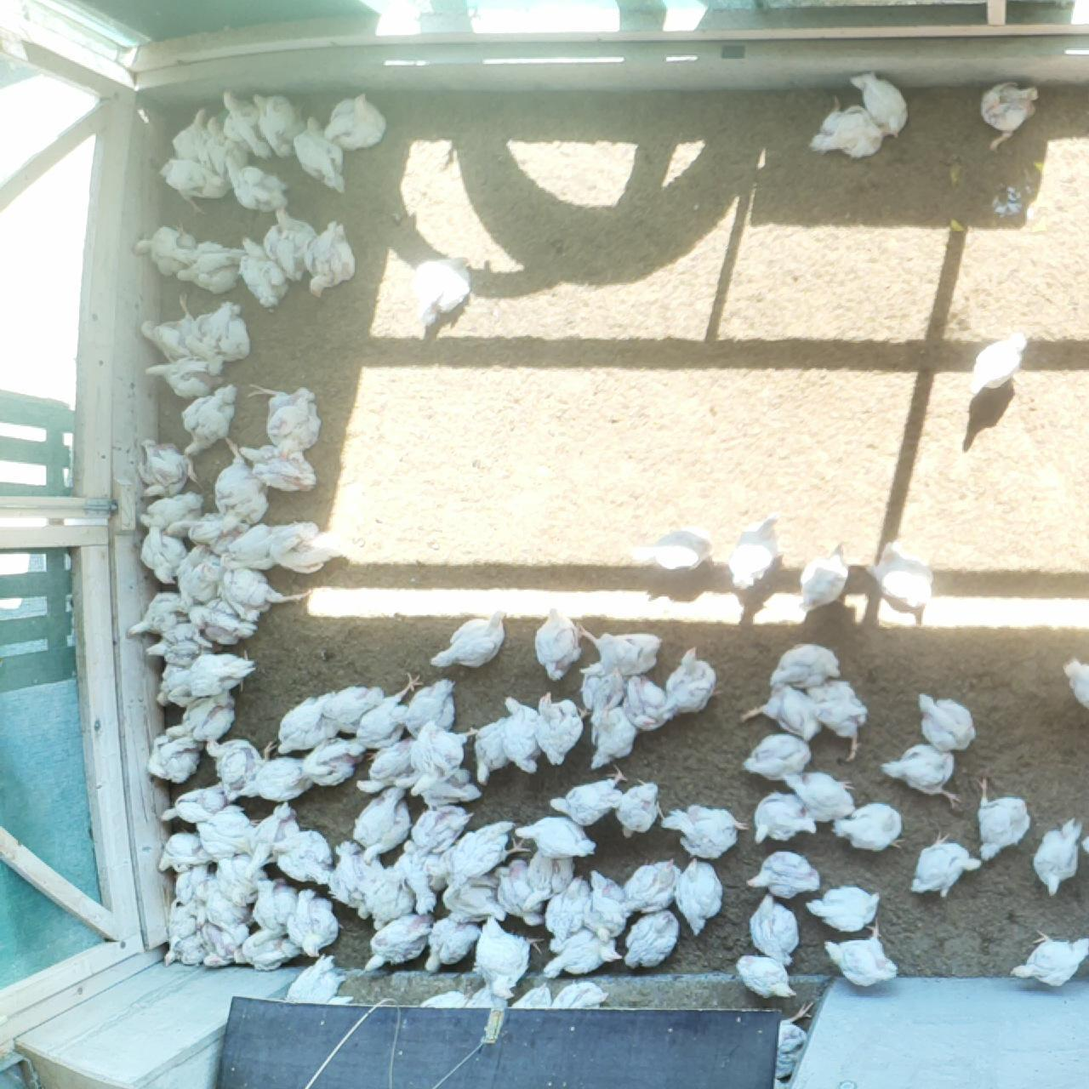chicken: (319, 669, 426, 733), (570, 609, 666, 680), (212, 551, 315, 616), (963, 771, 1034, 863), (806, 89, 893, 160), (417, 607, 513, 671), (541, 758, 623, 832), (403, 719, 476, 802), (471, 912, 543, 996), (878, 740, 964, 810), (662, 796, 749, 865), (734, 677, 822, 745), (901, 831, 984, 902), (818, 914, 896, 988), (196, 728, 279, 797), (861, 535, 936, 611), (248, 381, 321, 459), (443, 814, 515, 891), (410, 251, 473, 337), (1008, 923, 1089, 989), (211, 432, 269, 522), (726, 510, 788, 594), (808, 677, 868, 763), (847, 70, 914, 147), (669, 853, 727, 941), (305, 216, 363, 303), (965, 331, 1033, 405), (188, 297, 252, 375), (625, 522, 715, 577), (530, 599, 588, 684), (236, 442, 322, 499), (356, 914, 432, 978), (1029, 816, 1089, 897), (776, 765, 858, 824), (661, 642, 723, 720), (916, 684, 983, 756), (174, 233, 253, 294), (391, 675, 463, 741), (978, 77, 1044, 149), (826, 800, 907, 858), (745, 886, 803, 967), (271, 690, 339, 759), (176, 380, 241, 452), (126, 218, 204, 278), (321, 91, 396, 153), (292, 111, 348, 194), (213, 87, 274, 163), (138, 292, 206, 359), (159, 644, 258, 690), (267, 516, 348, 572), (239, 231, 292, 316), (518, 845, 578, 920), (244, 87, 302, 164), (541, 872, 594, 956), (359, 787, 413, 868), (536, 927, 620, 979), (262, 200, 314, 284), (285, 885, 343, 960), (243, 801, 302, 874), (798, 535, 851, 616), (621, 907, 685, 974), (514, 818, 604, 864), (250, 746, 317, 807), (741, 849, 824, 898), (805, 881, 886, 931), (403, 801, 474, 858), (435, 868, 509, 922), (768, 637, 843, 690), (418, 913, 483, 974), (166, 686, 238, 741), (531, 683, 579, 765), (742, 724, 814, 778), (749, 790, 819, 845), (615, 669, 673, 735), (140, 349, 223, 395), (156, 776, 229, 828), (299, 732, 362, 792), (355, 734, 411, 801), (773, 998, 818, 1081), (143, 725, 201, 788), (134, 434, 191, 497), (158, 157, 229, 207), (272, 826, 332, 885), (500, 690, 541, 776), (618, 775, 669, 844), (587, 703, 637, 773), (621, 852, 675, 916), (287, 951, 351, 1005), (733, 952, 798, 1005), (168, 540, 225, 600), (123, 592, 191, 642), (222, 156, 285, 209), (195, 805, 257, 858), (229, 929, 302, 974), (216, 524, 284, 571), (134, 523, 182, 589), (329, 840, 374, 910), (364, 866, 415, 927), (139, 620, 210, 663), (470, 714, 513, 783), (185, 598, 258, 638), (250, 874, 298, 934), (199, 114, 245, 176), (188, 505, 248, 552), (396, 840, 433, 912), (490, 857, 531, 921), (574, 668, 625, 719), (214, 857, 265, 908), (142, 488, 203, 530), (168, 873, 208, 937), (423, 768, 479, 813), (169, 99, 208, 161), (586, 867, 623, 931), (1052, 654, 1089, 715), (156, 831, 205, 877), (552, 976, 609, 1015), (197, 924, 241, 969), (206, 890, 248, 935), (514, 982, 553, 1016), (420, 984, 473, 1009), (468, 983, 509, 1010), (165, 938, 199, 968)
